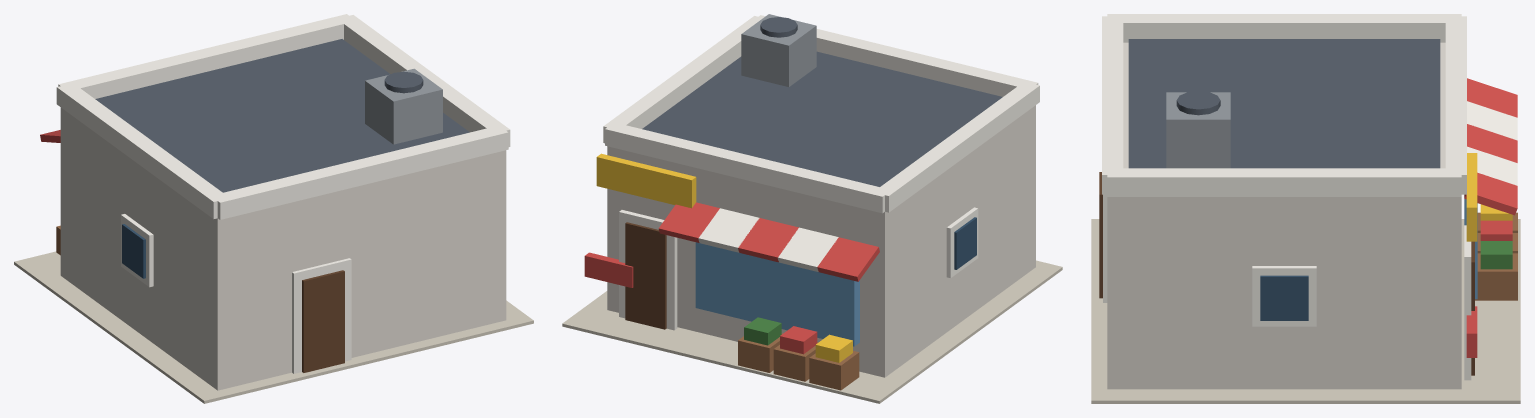
3 renders of one model, left to right at view 1: azimuth 30°, elevation 25°; view 2: azimuth 150°, elevation 25°; view 3: azimuth 270°, elevation 25°, orthographic. The views are drawn at different scales.
Visible parts, largest first — view 1: shop, roof, parapet (×4), ground, ac_unit_body, door, door_frame, window_glass, window_frame, ac_unit_fan; view 2: shop, roof, parapet (×4), storefront, ground, awning_stripe (×5), sign (×2), door, ac_unit_body, crate (×3), produce (×3), door_frame (+3 smaller); view 3: shop, roof, parapet (×4), ground, awning_stripe (×5), ac_unit_body, window_glass, produce (×3), window_frame, sign (×2), door_frame (×2), crate (+2 smaller).
Part boxes in pixels (x1,y1,x2,y2): shop: (60, 107, 506, 390); roof: (95, 39, 469, 192); parapet (×4): (56, 14, 510, 219); ground: (14, 251, 533, 403); ac_unit_body: (365, 68, 442, 144); door: (302, 270, 344, 372); door_frame: (292, 258, 351, 373); window_glass: (122, 224, 145, 278); window_frame: (121, 214, 153, 287); ac_unit_fan: (384, 71, 423, 93); shop: (607, 105, 1035, 377); roof: (642, 51, 1002, 186); parapet (×4): (603, 15, 1039, 213); storefront: (695, 242, 859, 346); ground: (562, 260, 1062, 403); awning_stripe (×5): (658, 202, 879, 281); sign (×2): (584, 153, 696, 287); door: (625, 222, 666, 329); ac_unit_body: (741, 14, 816, 86); crate (×3): (738, 333, 859, 390); produce (×3): (744, 317, 852, 362); door_frame: (619, 210, 677, 330); shop: (1107, 42, 1461, 389); roof: (1128, 39, 1440, 168); parapet (×4): (1102, 14, 1466, 196); ground: (1091, 219, 1520, 403); awning_stripe (×5): (1464, 78, 1517, 215); ac_unit_body: (1166, 92, 1230, 168); window_glass: (1260, 275, 1308, 320); produce (×3): (1480, 204, 1512, 269); window_frame: (1252, 266, 1316, 326); sign (×2): (1466, 153, 1477, 357); door_frame (×2): (1103, 194, 1471, 380); crate: (1475, 253, 1517, 300).
Size of the model in its own units: 8 by 5.31 by 8.
